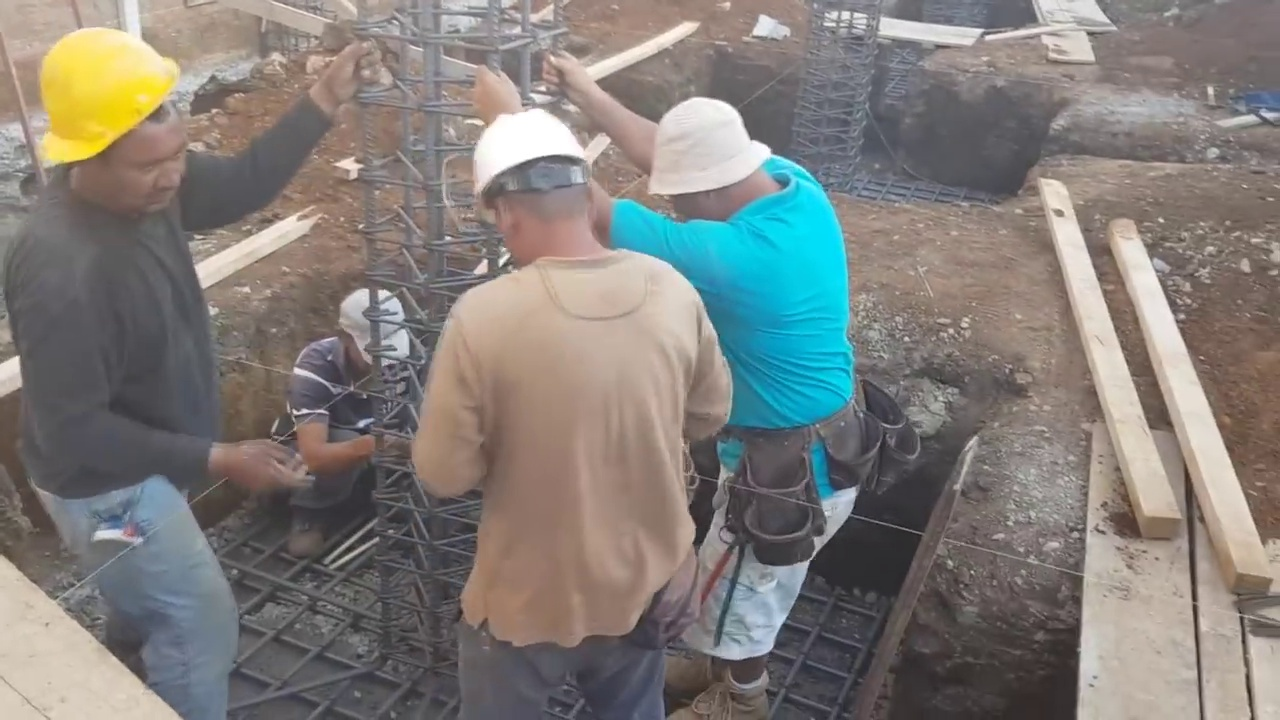helmet: (32, 24, 181, 177), (472, 104, 609, 213)
helmet-off: (634, 91, 790, 230), (327, 289, 416, 397)
helmet-on: (30, 19, 178, 234), (467, 103, 609, 273)
person: (480, 48, 865, 712), (11, 4, 377, 676), (405, 110, 738, 692), (273, 287, 408, 543)
